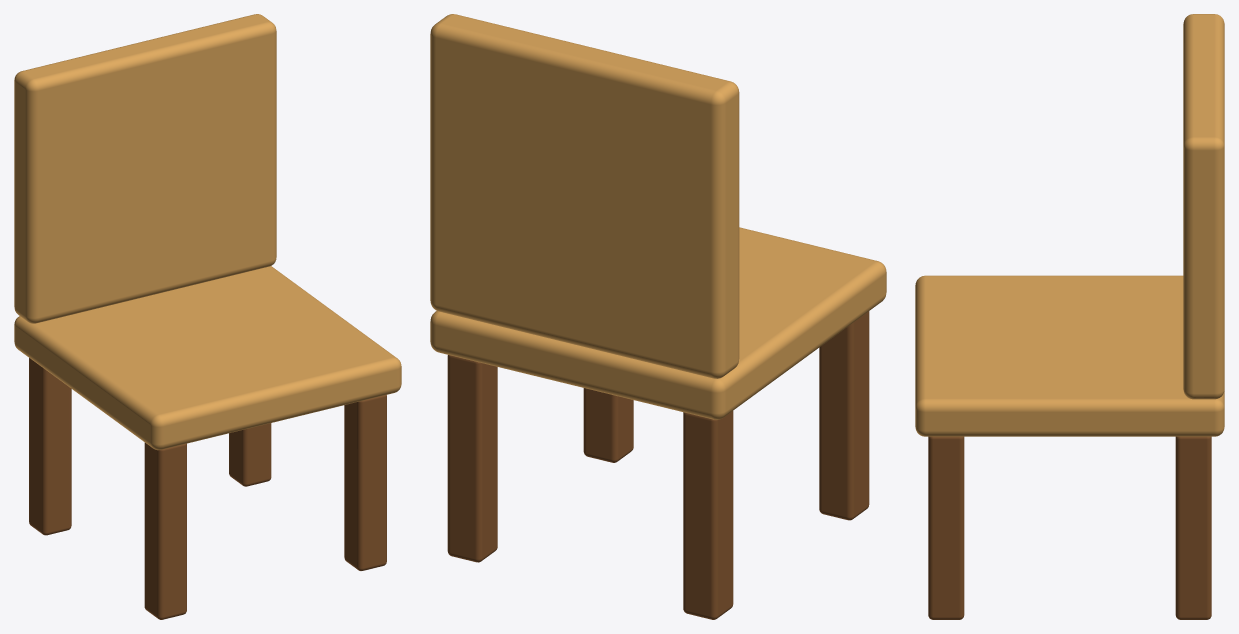
The model's file is chair.glb.
The picture shows the model from 3 angles, left to right: view 1: azimuth 30°, elevation 25°; view 2: azimuth 150°, elevation 25°; view 3: azimuth 270°, elevation 25°; orthographic projection. The views are drawn at different scales.
Parts seen in each view (by area): view 1: Back, Seat, Leg (×4); view 2: Back, Leg (×4), Seat; view 3: Seat, Back, Leg (×2).
Boxes of the visible parts, x1,y1,x2,y2 form: Back: (14, 14, 276, 323); Seat: (14, 266, 401, 450); Leg (×4): (29, 358, 386, 619); Back: (430, 14, 739, 378); Leg (×4): (447, 311, 869, 619); Seat: (430, 227, 886, 419); Seat: (915, 275, 1224, 436); Back: (1183, 14, 1224, 399); Leg (×2): (928, 436, 1211, 619).
Size of the model in its own units: 0.3 by 0.52 by 0.3.
